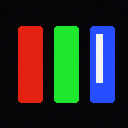4 line_v: (96, 34, 102, 82)
